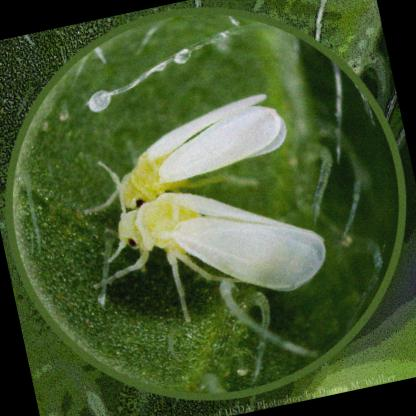whitefly: (90, 96, 289, 213), (119, 193, 326, 292)
